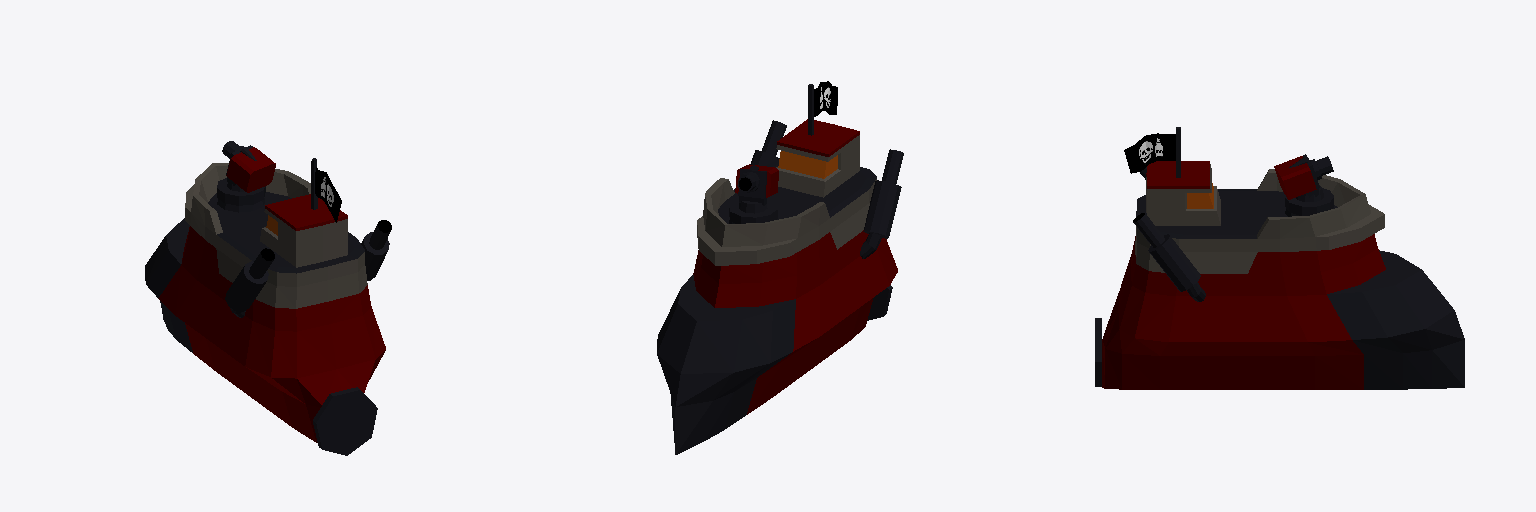
3 renders of one model, left to right at view 1: azimuth 30°, elevation 25°; view 2: azimuth 150°, elevation 25°; view 3: azimuth 270°, elevation 25°, orthographic.
Parts seen in each view (by area): view 1: Circle.021_Circle.044, Cylinder.001_Cylinder, Cylinder.013_Cylinder.025, Cube.020_Cube.058, Cylinder.012_Cylinder.024, Plane.005_Plane.004; view 2: Circle.021_Circle.044, Cylinder.013_Cylinder.025, Cube.020_Cube.058, Cylinder.012_Cylinder.024, Plane.005_Plane.004; view 3: Circle.021_Circle.044, Cylinder.013_Cylinder.025, Cube.020_Cube.058, Plane.005_Plane.004, Cylinder.012_Cylinder.024.
Boxes of the visible parts, x1=… form: Circle.021_Circle.044: x1=145, y1=163, x2=385, y2=442; Cylinder.001_Cylinder: x1=313, y1=387, x2=377, y2=455; Cylinder.013_Cylinder.025: x1=225, y1=220, x2=391, y2=317; Cube.020_Cube.058: x1=222, y1=141, x2=275, y2=192; Cylinder.012_Cylinder.024: x1=217, y1=178, x2=265, y2=212; Plane.005_Plane.004: x1=315, y1=167, x2=341, y2=222; Circle.021_Circle.044: x1=657, y1=119, x2=897, y2=454; Cylinder.013_Cylinder.025: x1=750, y1=120, x2=903, y2=258; Cube.020_Cube.058: x1=735, y1=164, x2=778, y2=205; Cylinder.012_Cylinder.024: x1=729, y1=199, x2=777, y2=223; Plane.005_Plane.004: x1=814, y1=81, x2=837, y2=116; Circle.021_Circle.044: x1=1102, y1=161, x2=1464, y2=389; Cylinder.013_Cylinder.025: x1=1133, y1=167, x2=1205, y2=301; Cube.020_Cube.058: x1=1274, y1=154, x2=1333, y2=199; Plane.005_Plane.004: x1=1124, y1=133, x2=1175, y2=173; Cylinder.012_Cylinder.024: x1=1285, y1=185, x2=1333, y2=216.
Size of the model in its own units: 29.23 by 49.56 by 62.95.
6 materials, 1 textured.